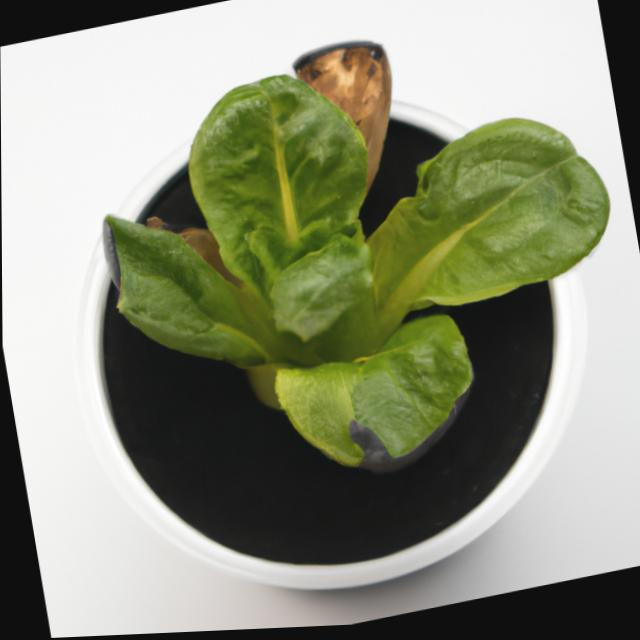-K: (58, 0, 640, 535)
